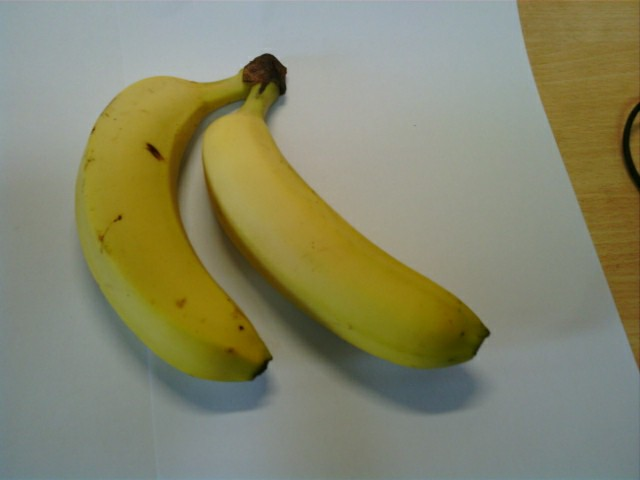fresh_banana: (203, 107, 487, 369)
normal_banana: (76, 73, 270, 382)
